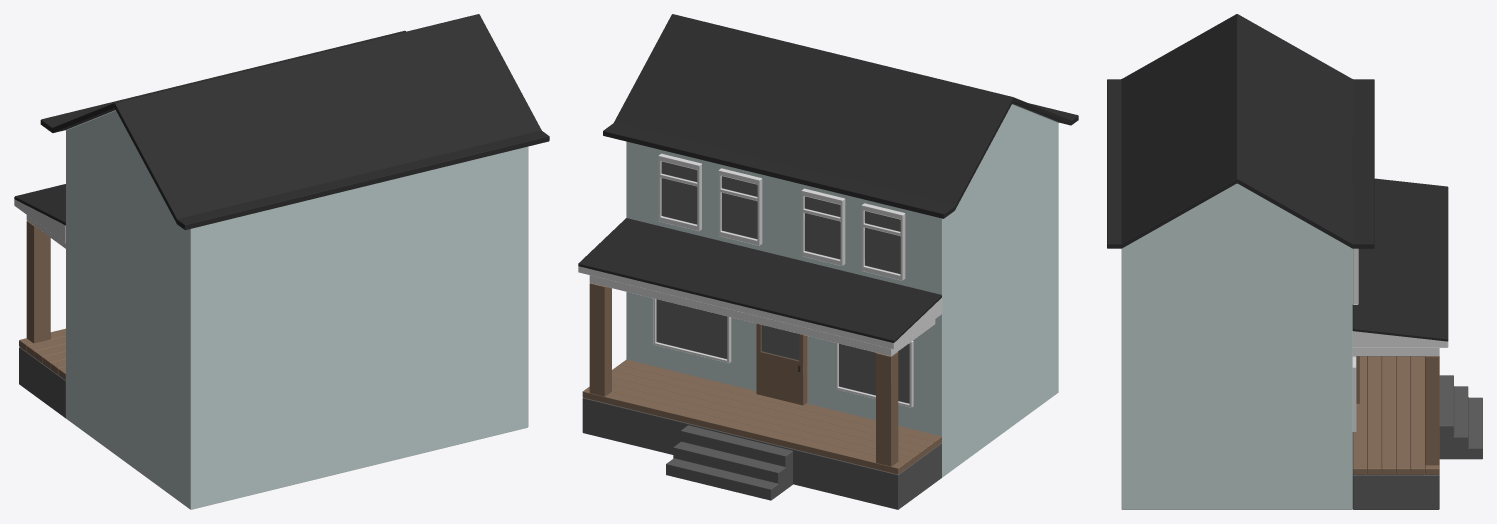
The model's file is housev5.fbx.
3 views of the same model, side by side, from view 1: azimuth 30°, elevation 25°; view 2: azimuth 150°, elevation 25°; view 3: azimuth 270°, elevation 25° (orthographic). The views are drawn at different scales.
Visible parts, largest first — view 1: WideHouse.002; view 2: WideHouse.002; view 3: WideHouse.002.
Boxes of the visible parts, bbox=[...] form: WideHouse.002: bbox=[14, 14, 549, 509]; WideHouse.002: bbox=[578, 14, 1078, 509]; WideHouse.002: bbox=[1107, 14, 1482, 509].
Bounding box in the file's own units: 1349 × 1289 × 1300.
